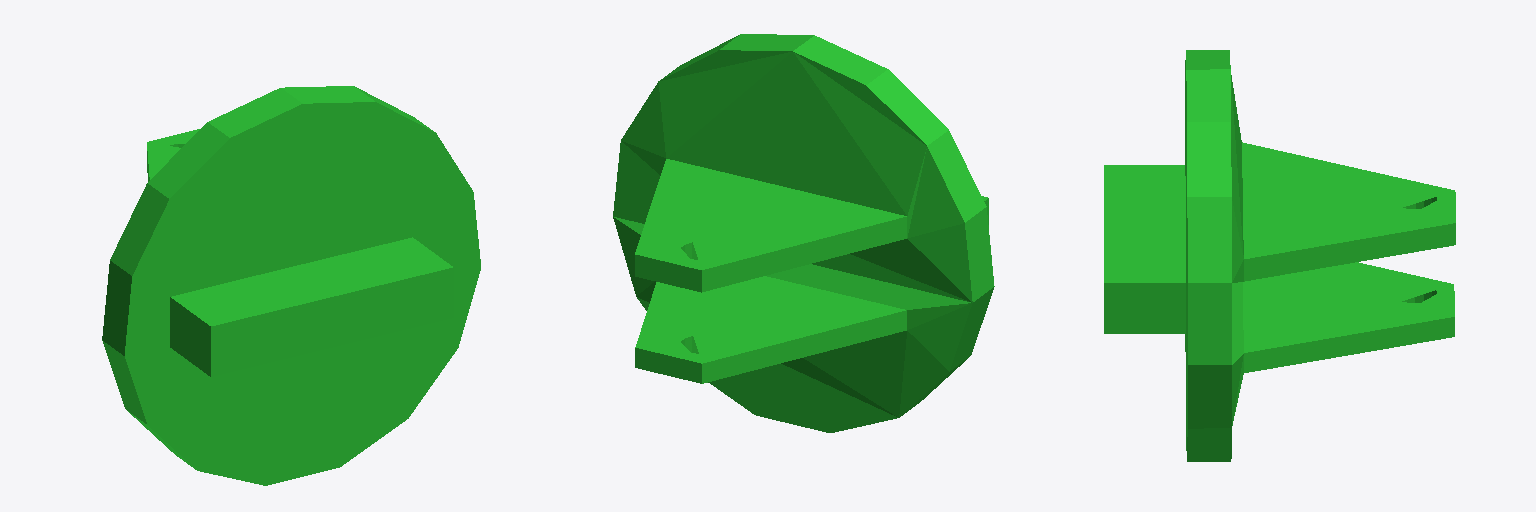
Rendered from caster_1.obj.
3 renders of one model, left to right at view 1: azimuth 30°, elevation 25°; view 2: azimuth 150°, elevation 25°; view 3: azimuth 270°, elevation 25°, orthographic.
Visible parts, largest first — view 1: Caster_Cylinder.002; view 2: Caster_Cylinder.002; view 3: Caster_Cylinder.002.
Part boxes in pixels (x1,y1,x2,y2): Caster_Cylinder.002: (102,86,480,485); Caster_Cylinder.002: (613,34,994,432); Caster_Cylinder.002: (1104,50,1455,461).
Size of the model in its own units: 1.03 by 1.02 by 0.8751.